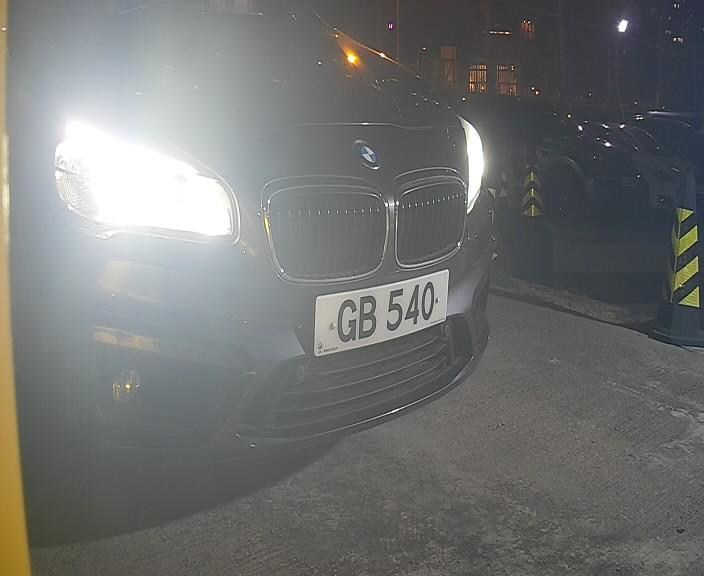License Plate: (299, 263, 459, 358)
